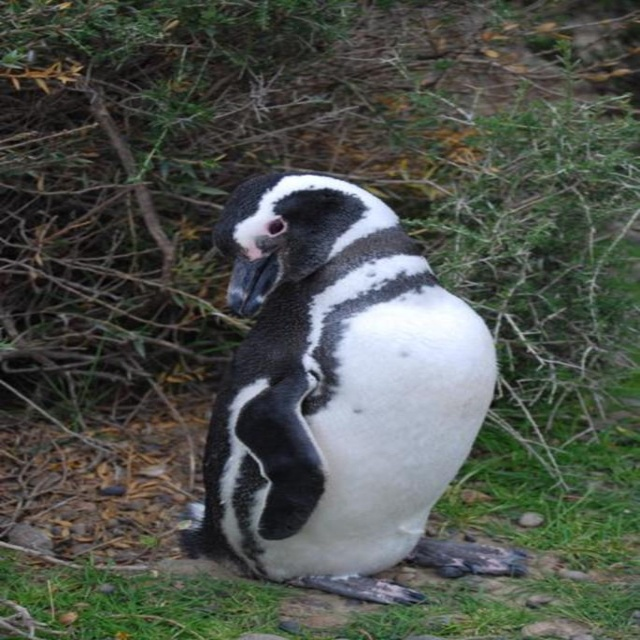Penguin: (176, 168, 516, 603)
